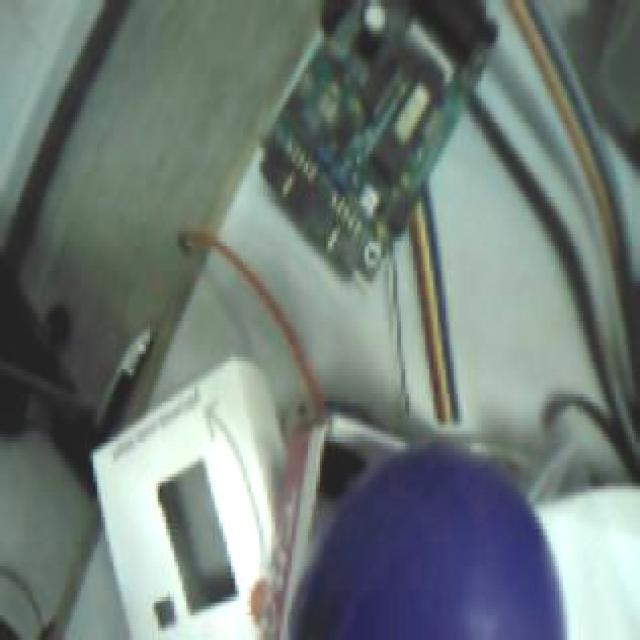BallPurple: (292, 446, 565, 640)
